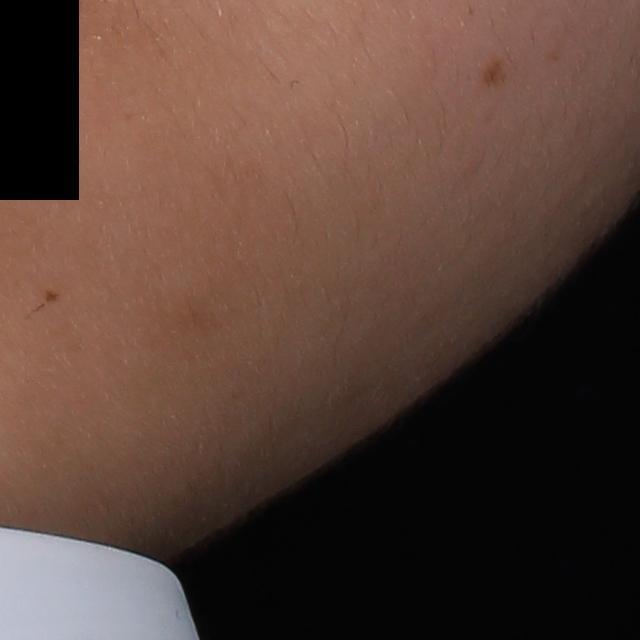nevus: (477, 57, 510, 91), (42, 288, 65, 308)
